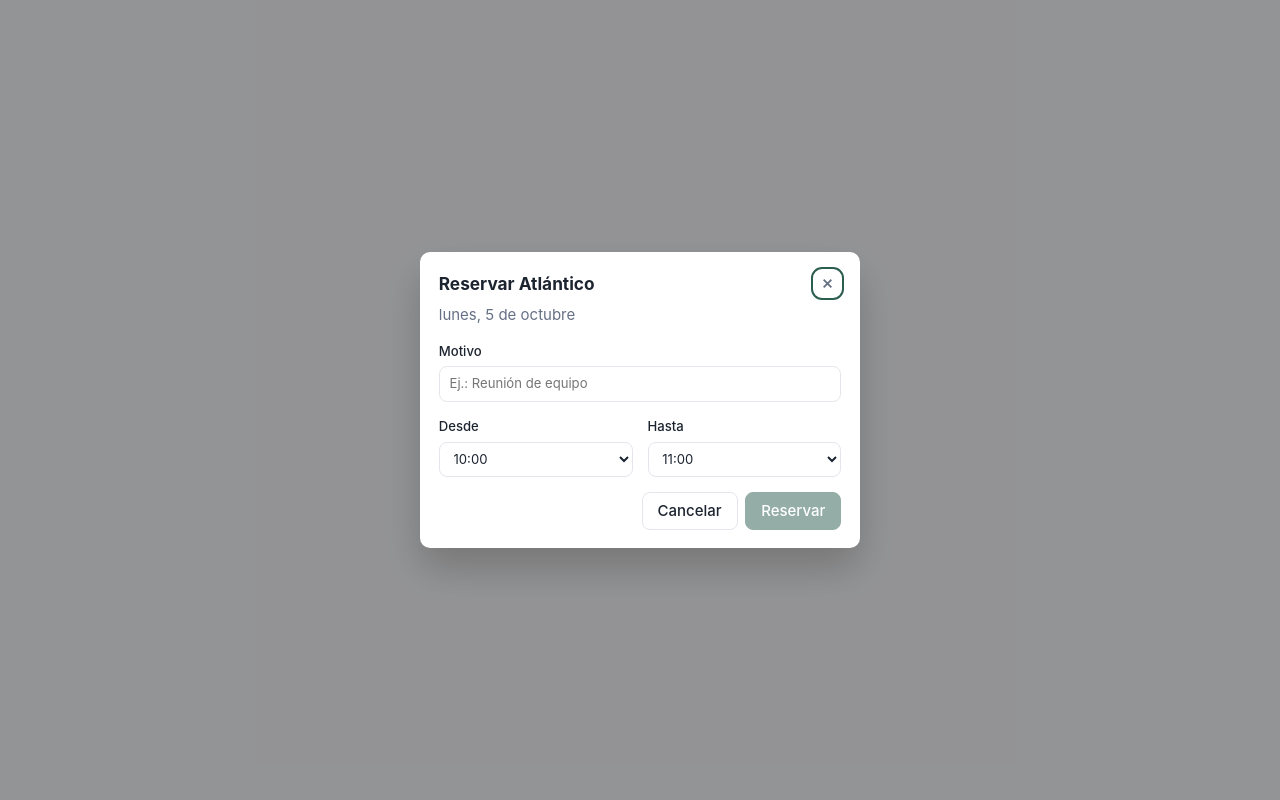
BookingDialog › shows the server error when the slot is taken
Type "Daily" into the field labelled "Motivo" at (640, 384), box [439, 366, 841, 402]
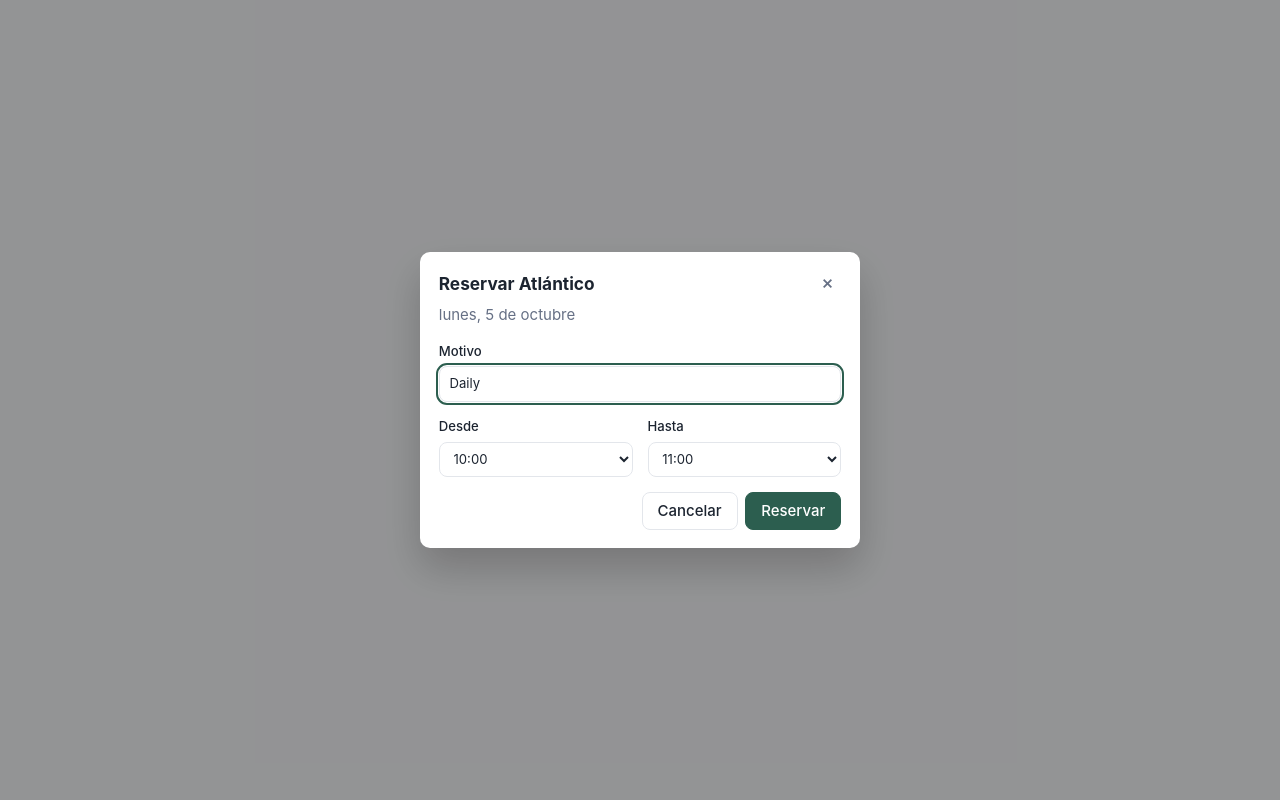
Click the button "Reservar" at (793, 511), box [745, 492, 841, 530]
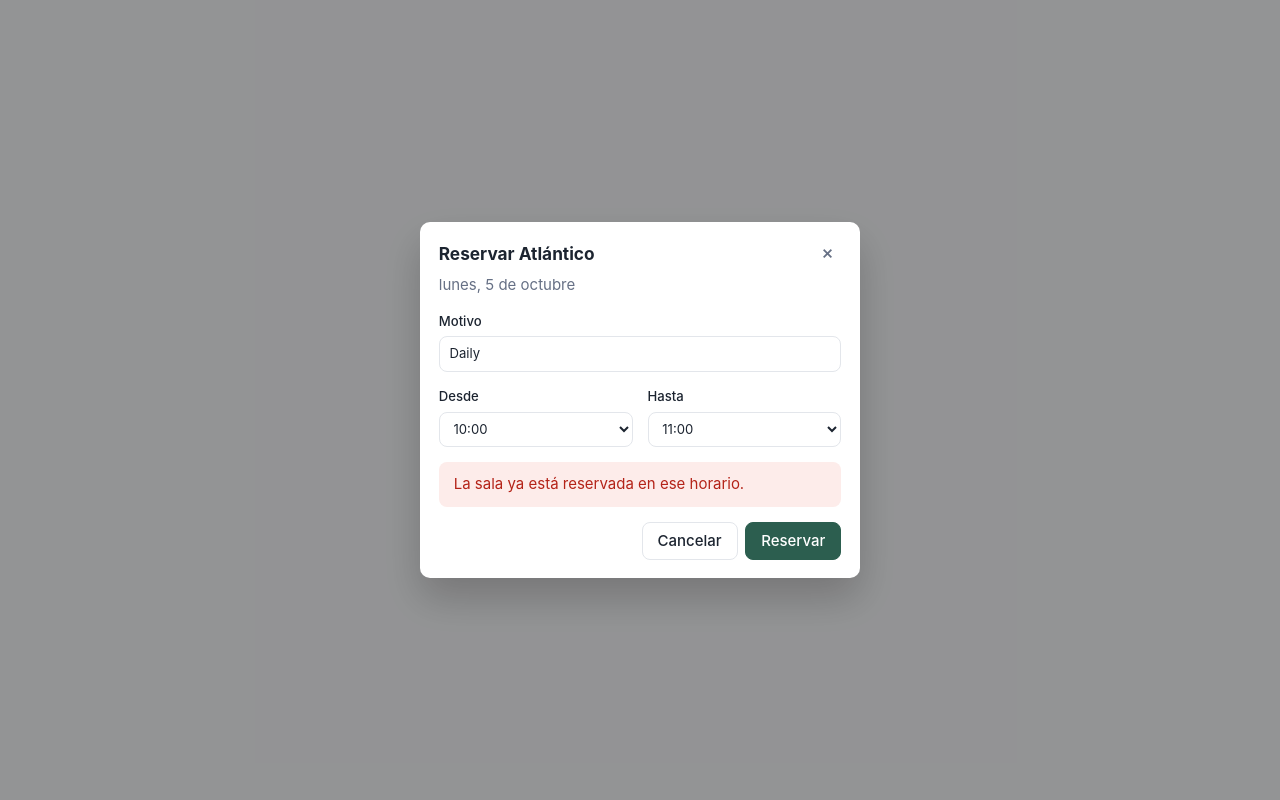
Result: the message shows "ya está reservada" at [454, 474, 744, 493]
